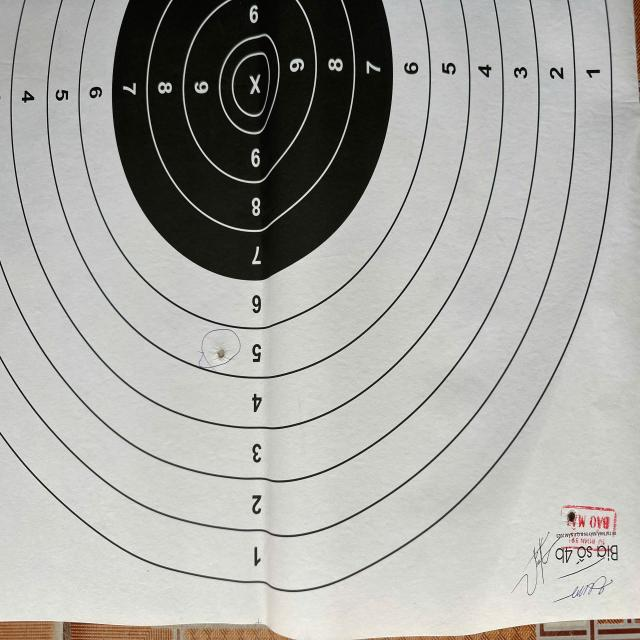bullet: (567, 511, 576, 523), (217, 350, 226, 360)
target: (0, 0, 640, 637)
